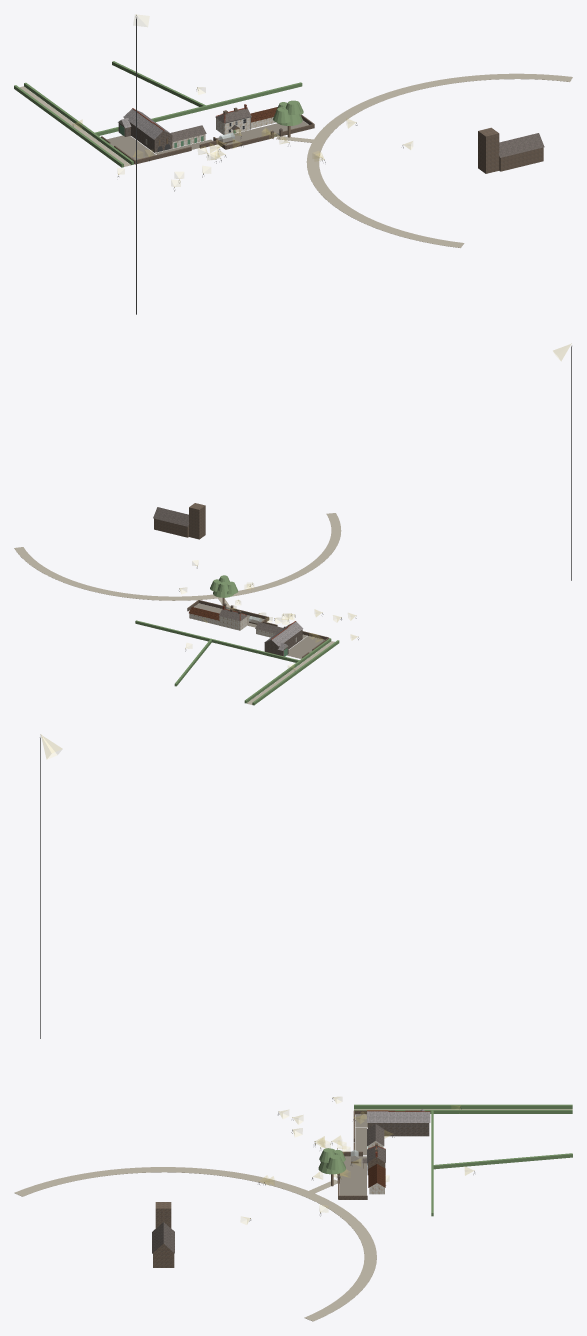
Rendered from tymawr.glb.
The picture shows the model from 3 angles, top to bottom: view 1: azimuth 30°, elevation 25°; view 2: azimuth 150°, elevation 25°; view 3: azimuth 270°, elevation 25°; orthographic projection. The views are drawn at different scales.
Parts seen in each view (by area): view 1: tymawr; view 2: tymawr; view 3: tymawr.
Boxes of the visible parts, x1=… form: tymawr: x1=14, y1=14, x2=572, y2=314; tymawr: x1=14, y1=343, x2=571, y2=705; tymawr: x1=14, y1=734, x2=572, y2=1321.
Bounding box in the file's own units: 240 × 120 × 200.
Materials: 24 (6 with a texture image).
